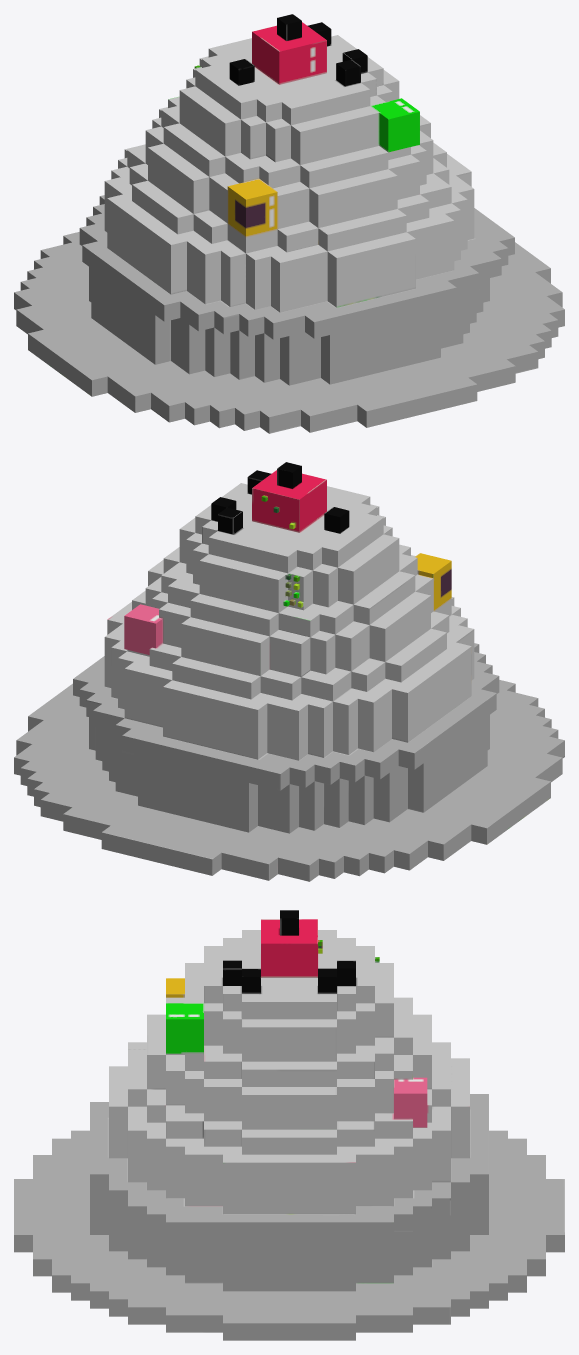
File: shirokuma-kakigori.glb
3 views of the same model, one above another, from view 1: azimuth 30°, elevation 25°; view 2: azimuth 150°, elevation 25°; view 3: azimuth 270°, elevation 25° (orthographic). The views are drawn at different scales.
Parts seen in each view (by area): view 1: shirokuma-kakigori; view 2: shirokuma-kakigori; view 3: shirokuma-kakigori.
Boxes of the visible parts, left/top/right/bottom form: shirokuma-kakigori: left=14, top=14, right=564, bottom=433; shirokuma-kakigori: left=14, top=462, right=564, bottom=881; shirokuma-kakigori: left=14, top=910, right=564, bottom=1340.
Bounding box in the file's own units: 2.32 × 1.44 × 2.32.
1 material, 1 textured.
